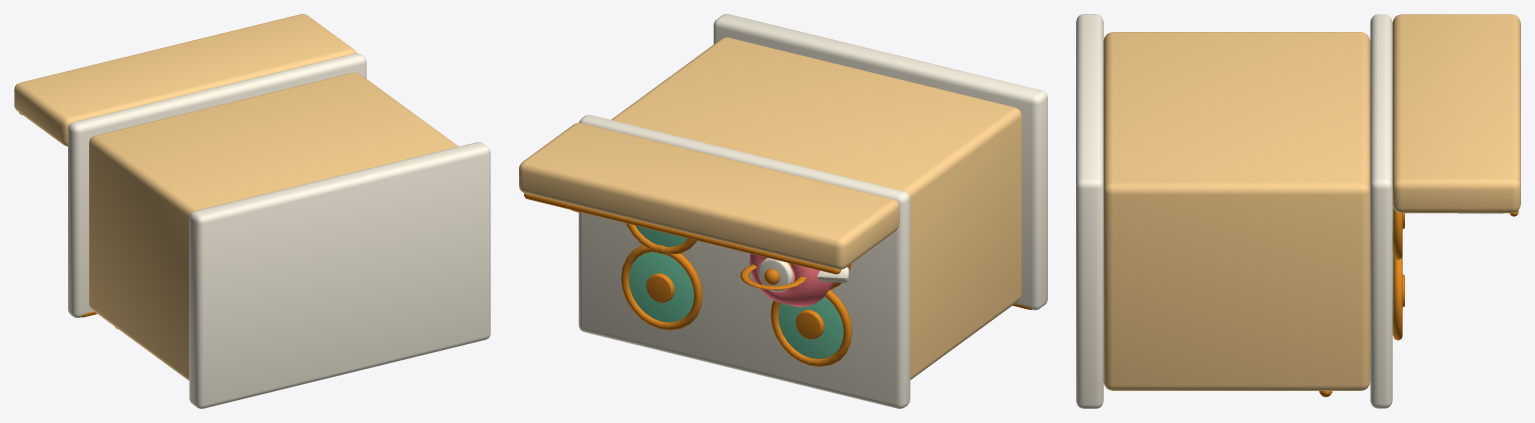
The model's file is KitchenStoveOven_Premium.fbx.
3 views of the same model, side by side, from view 1: azimuth 30°, elevation 25°; view 2: azimuth 150°, elevation 25°; view 3: azimuth 270°, elevation 25° (orthographic). The views are drawn at different scales.
Visible parts, largest first — view 1: KitchenStoveOven; view 2: KitchenStoveOven; view 3: KitchenStoveOven.
Part boxes in pixels (x1,y1,x2,y2): KitchenStoveOven: [14, 14, 490, 408]; KitchenStoveOven: [519, 14, 1047, 408]; KitchenStoveOven: [1076, 14, 1520, 408].
Bounding box in the file's own units: 1.18 × 0.741 × 1.3.
